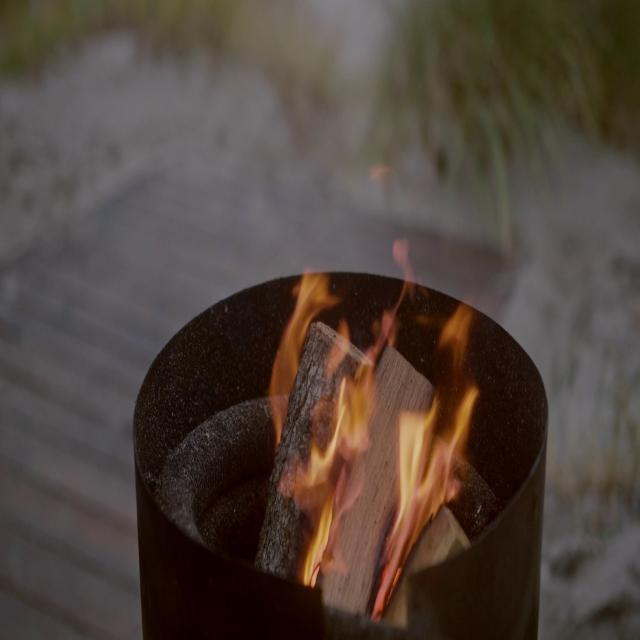Fire: (262, 264, 485, 610)
